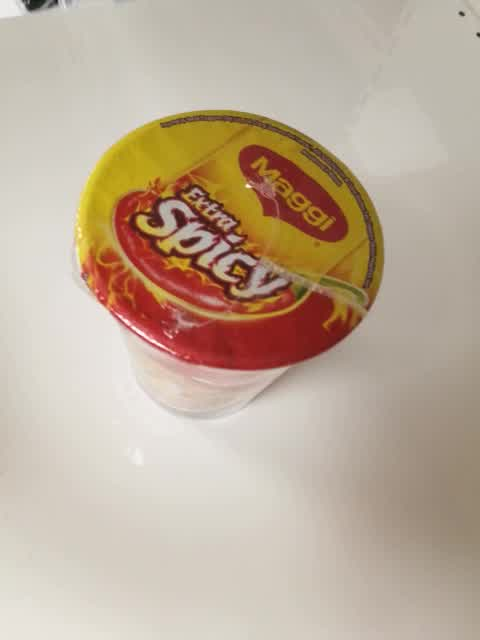maggi: (74, 109, 385, 421)
